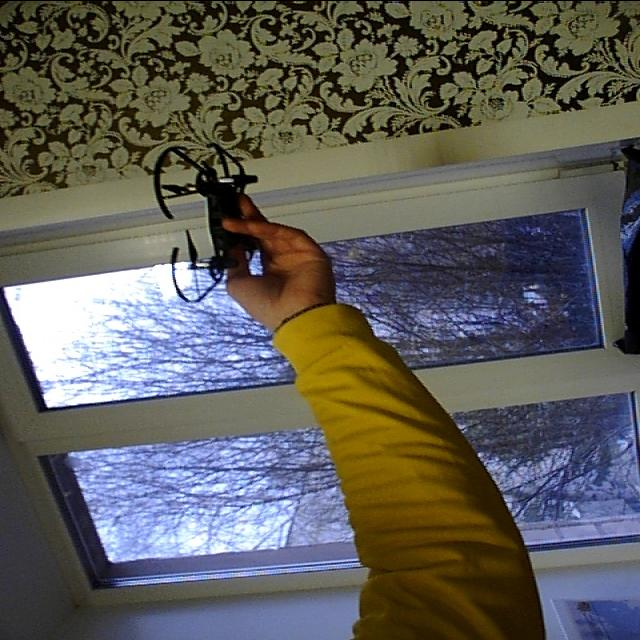drone: (138, 131, 270, 307)
